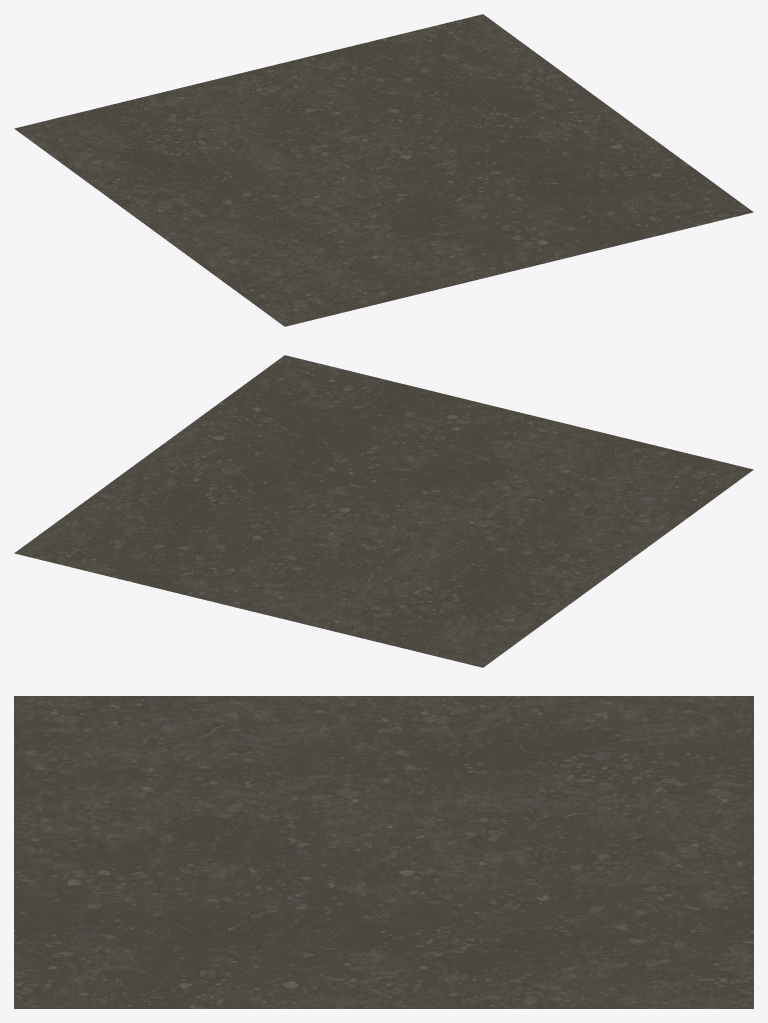
3 renders of one model, top to bottom at view 1: azimuth 30°, elevation 25°; view 2: azimuth 150°, elevation 25°; view 3: azimuth 270°, elevation 25°, orthographic. The views are drawn at different scales.
Parts seen in each view (by area): view 1: SM_PathDecalPlane_NoLODs_LOD0; view 2: SM_PathDecalPlane_NoLODs_LOD0; view 3: SM_PathDecalPlane_NoLODs_LOD0.
Part boxes in pixels (box(x1,y1,x2,y2)): SM_PathDecalPlane_NoLODs_LOD0: box(14, 14, 753, 326); SM_PathDecalPlane_NoLODs_LOD0: box(14, 355, 753, 667); SM_PathDecalPlane_NoLODs_LOD0: box(14, 696, 753, 1008).
Bounding box in the file's own units: 1 × 0 × 1.
1 material, 1 textured.
